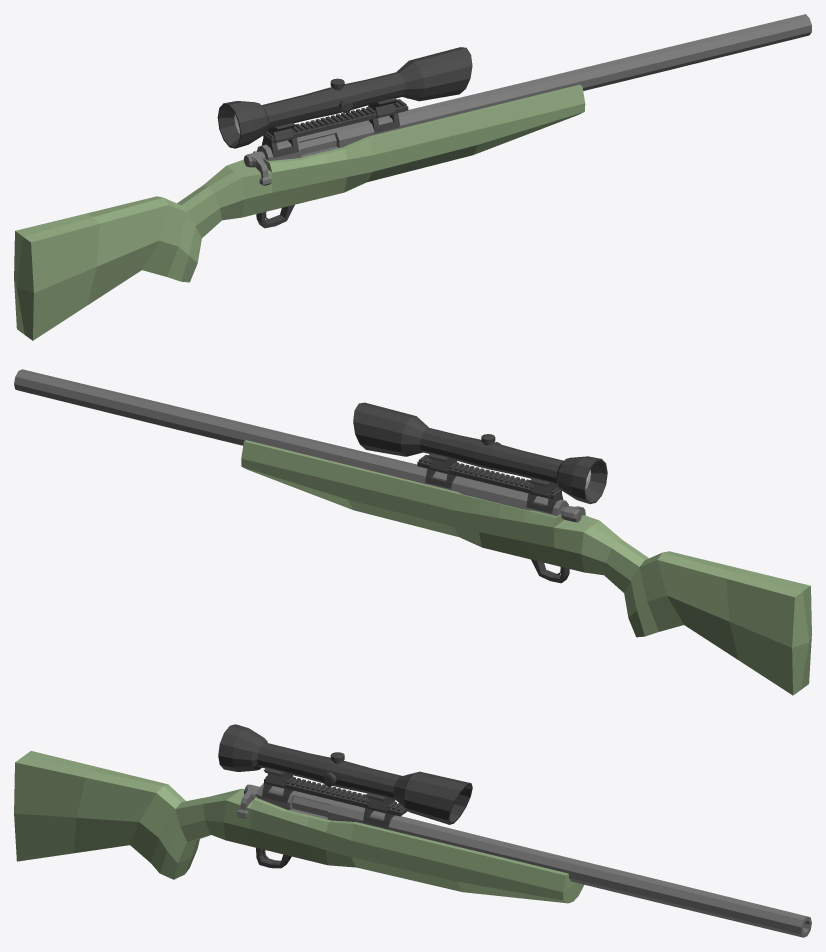
The model's file is design_leeSniper_Howa_1500.fbx.
3 views of the same model, one above another, from view 1: azimuth 30°, elevation 25°; view 2: azimuth 150°, elevation 25°; view 3: azimuth 330°, elevation 25° (orthographic).
Visible parts, largest first — view 1: Cylinder.002; view 2: Cylinder.002; view 3: Cylinder.002.
Part boxes in pixels (<box>): Cylinder.002: <box>14,14,811,340</box>; Cylinder.002: <box>14,369,811,695</box>; Cylinder.002: <box>14,724,811,937</box>.
Bounding box in the file's own units: 394 × 85.69 × 21.72.
